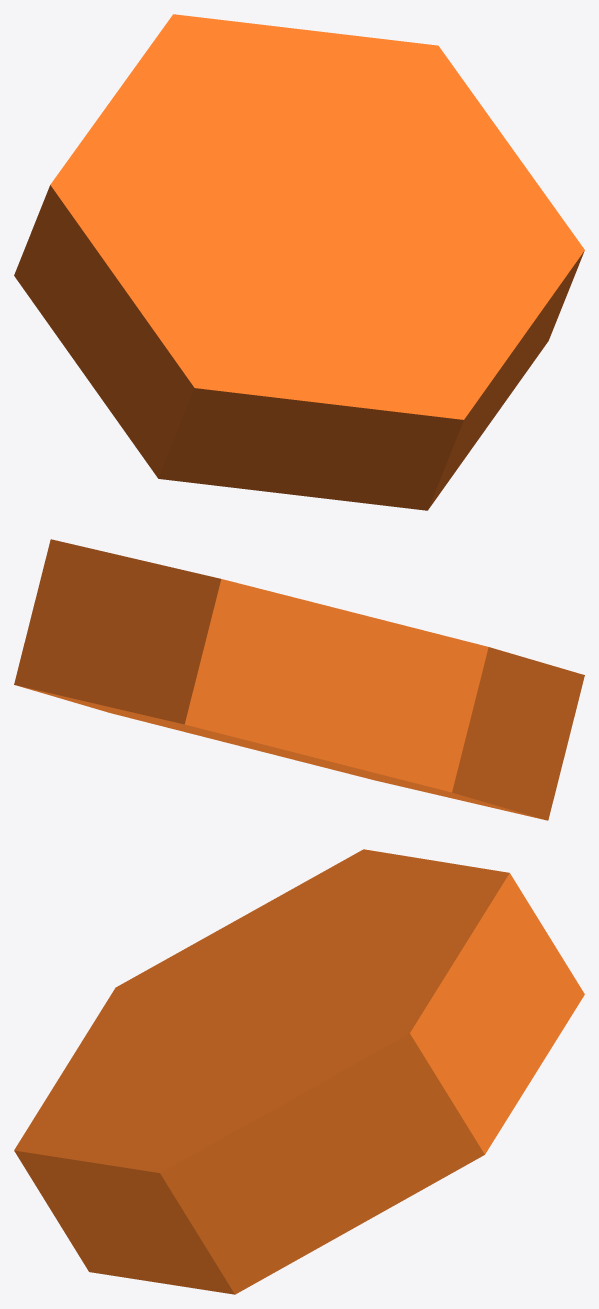
Rendered from Hexagon 1.fbx.
The picture shows the model from 3 angles, top to bottom: view 1: azimuth 30°, elevation 25°; view 2: azimuth 150°, elevation 25°; view 3: azimuth 270°, elevation 25°; orthographic projection. The views are drawn at different scales.
Parts seen in each view (by area): view 1: node_id3; view 2: node_id3; view 3: node_id3.
Boxes of the visible parts, x1,y1,x2,y2 form: node_id3: (14, 14, 584, 510); node_id3: (14, 539, 584, 820); node_id3: (14, 849, 584, 1294).
Size of the model in its own units: 0.4674 by 0.3689 by 0.5114.
